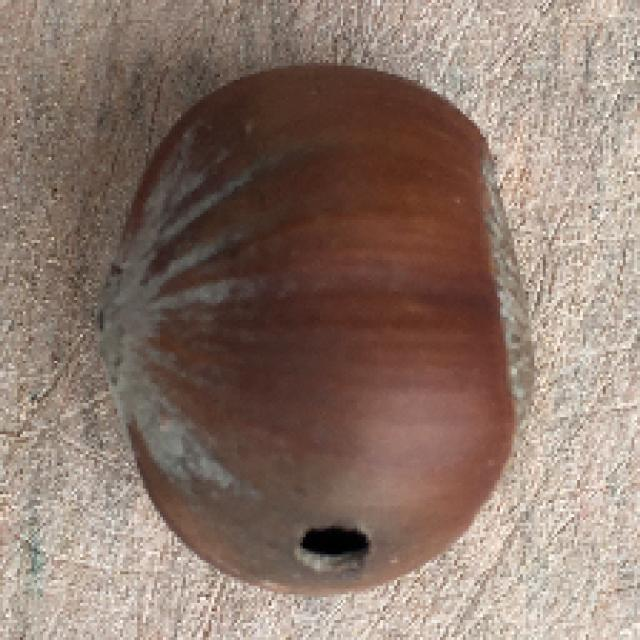damagedHazelnut: (103, 66, 535, 600)
